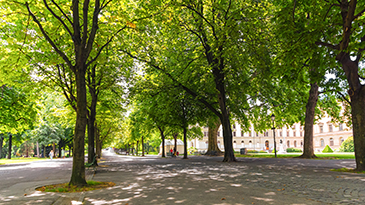tree: (154, 1, 283, 167)
